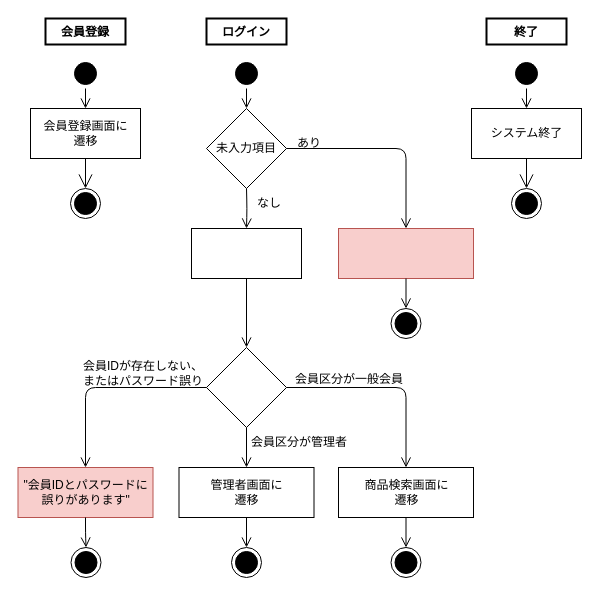
Some shapes in this 599 by 595 pixel diagram are drawn without their labels. Each missing label, with the centre of its shape:
"会員IDとパスワードを 入力してください": (406,253)
会員ID・ パスワード: (246,387)
会員情報.csvから 会員情報を取得: (246,253)
